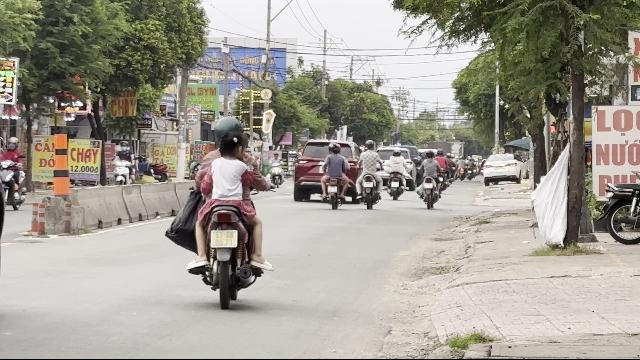helmet: (212, 116, 244, 140)
licenseplate: (210, 229, 238, 246)
motorcyclist: (173, 114, 271, 305)
nohelmet: (218, 133, 245, 159)
